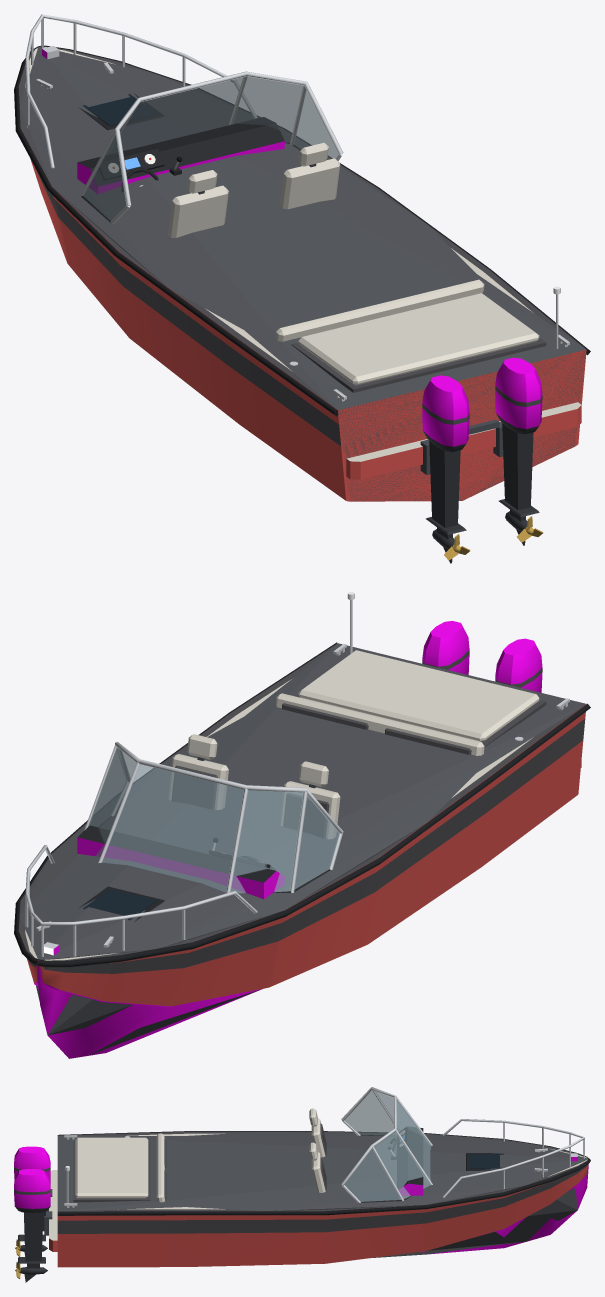
The model's file is boat_speed.glb.
3 views of the same model, one above another, from view 1: azimuth 30°, elevation 25°; view 2: azimuth 150°, elevation 25°; view 3: azimuth 270°, elevation 25° (orthographic). The views are drawn at different scales.
Parts seen in each view (by area): view 1: boat_speed__body, boat_speed__col_body, boat_speed__motor; view 2: boat_speed__body, boat_speed__col_body, boat_speed__motor; view 3: boat_speed__body, boat_speed__col_body, boat_speed__motor.
Boxes of the visible parts, left/top/right/bottom form: boat_speed__body: left=14, top=14, right=590, bottom=501; boat_speed__col_body: left=19, top=46, right=586, bottom=501; boat_speed__motor: left=420, top=357, right=542, bottom=563; boat_speed__body: left=14, top=592, right=590, bottom=1058; boat_speed__col_body: left=20, top=643, right=585, bottom=1055; boat_speed__motor: left=422, top=621, right=542, bottom=692; boat_speed__body: left=49, top=1087, right=590, bottom=1267; boat_speed__col_body: left=57, top=1131, right=587, bottom=1257; boat_speed__motor: left=14, top=1146, right=52, bottom=1282.
Size of what is drawn, in the model's own units: 2.5 by 2.26 by 7.43.
5 materials, 1 textured.
